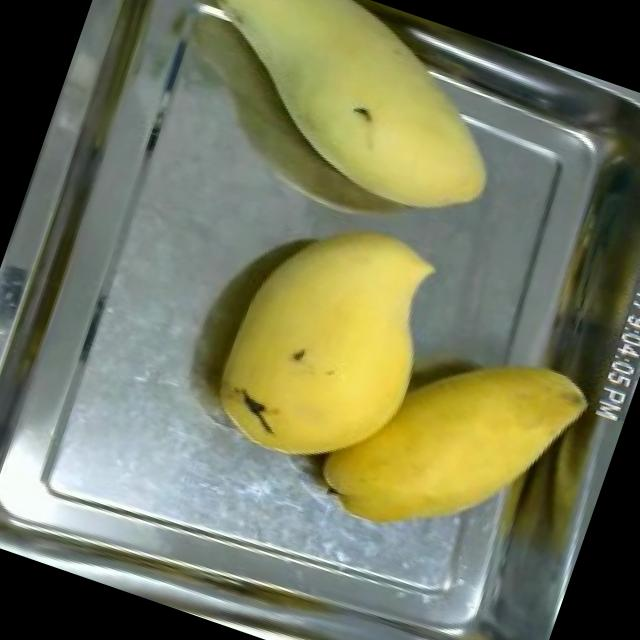fruit: (155, 0, 546, 248), (292, 294, 608, 588), (188, 178, 472, 501)
